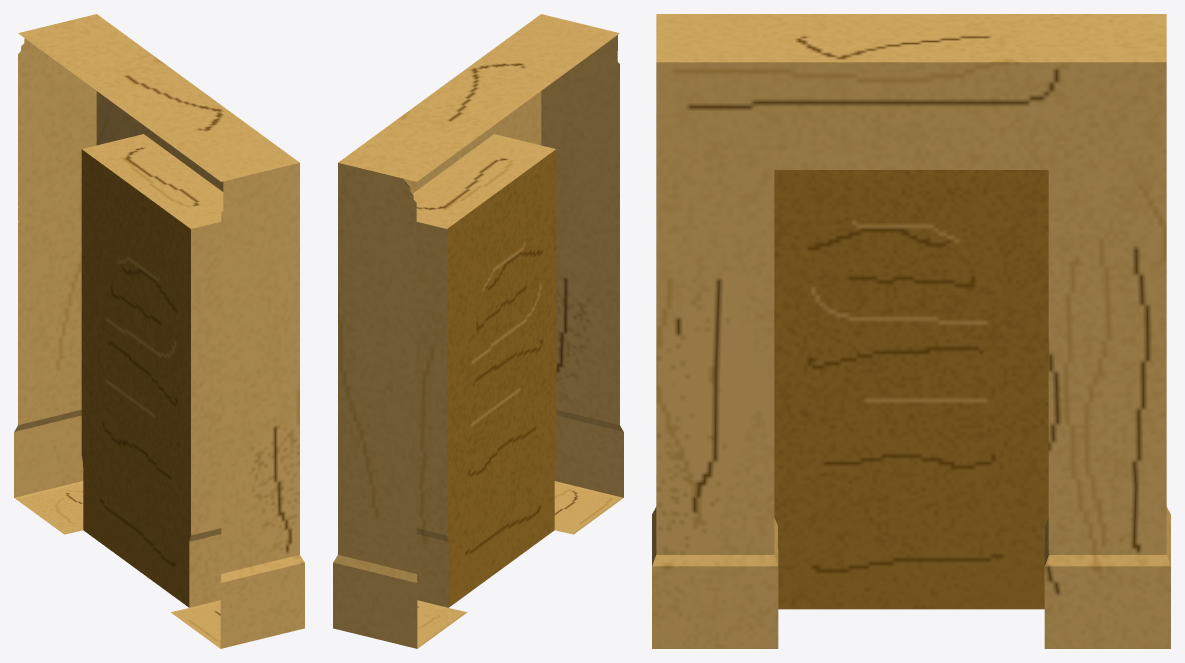
Rendered from doors.fbx.
The picture shows the model from 3 angles, left to right: view 1: azimuth 30°, elevation 25°; view 2: azimuth 150°, elevation 25°; view 3: azimuth 270°, elevation 25°; orthographic projection. The views are drawn at different scales.
Parts seen in each view (by area): view 1: Cube; view 2: Cube; view 3: Cube.
Boxes of the visible parts, bbox=[...] form: Cube: bbox=[14, 14, 304, 648]; Cube: bbox=[333, 14, 623, 648]; Cube: bbox=[652, 14, 1170, 648].
Size of the model in its own units: 19.07 by 101 by 80.92.
